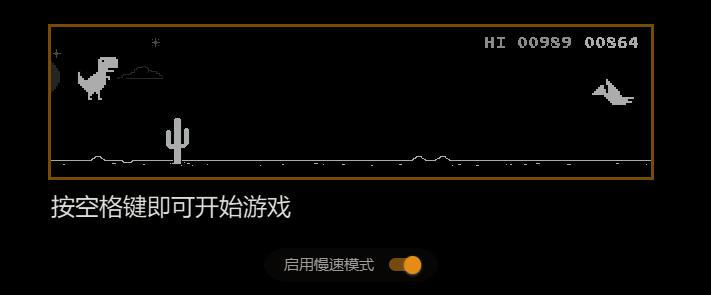cactus: (164, 115, 190, 166)
dino: (76, 54, 116, 100)
